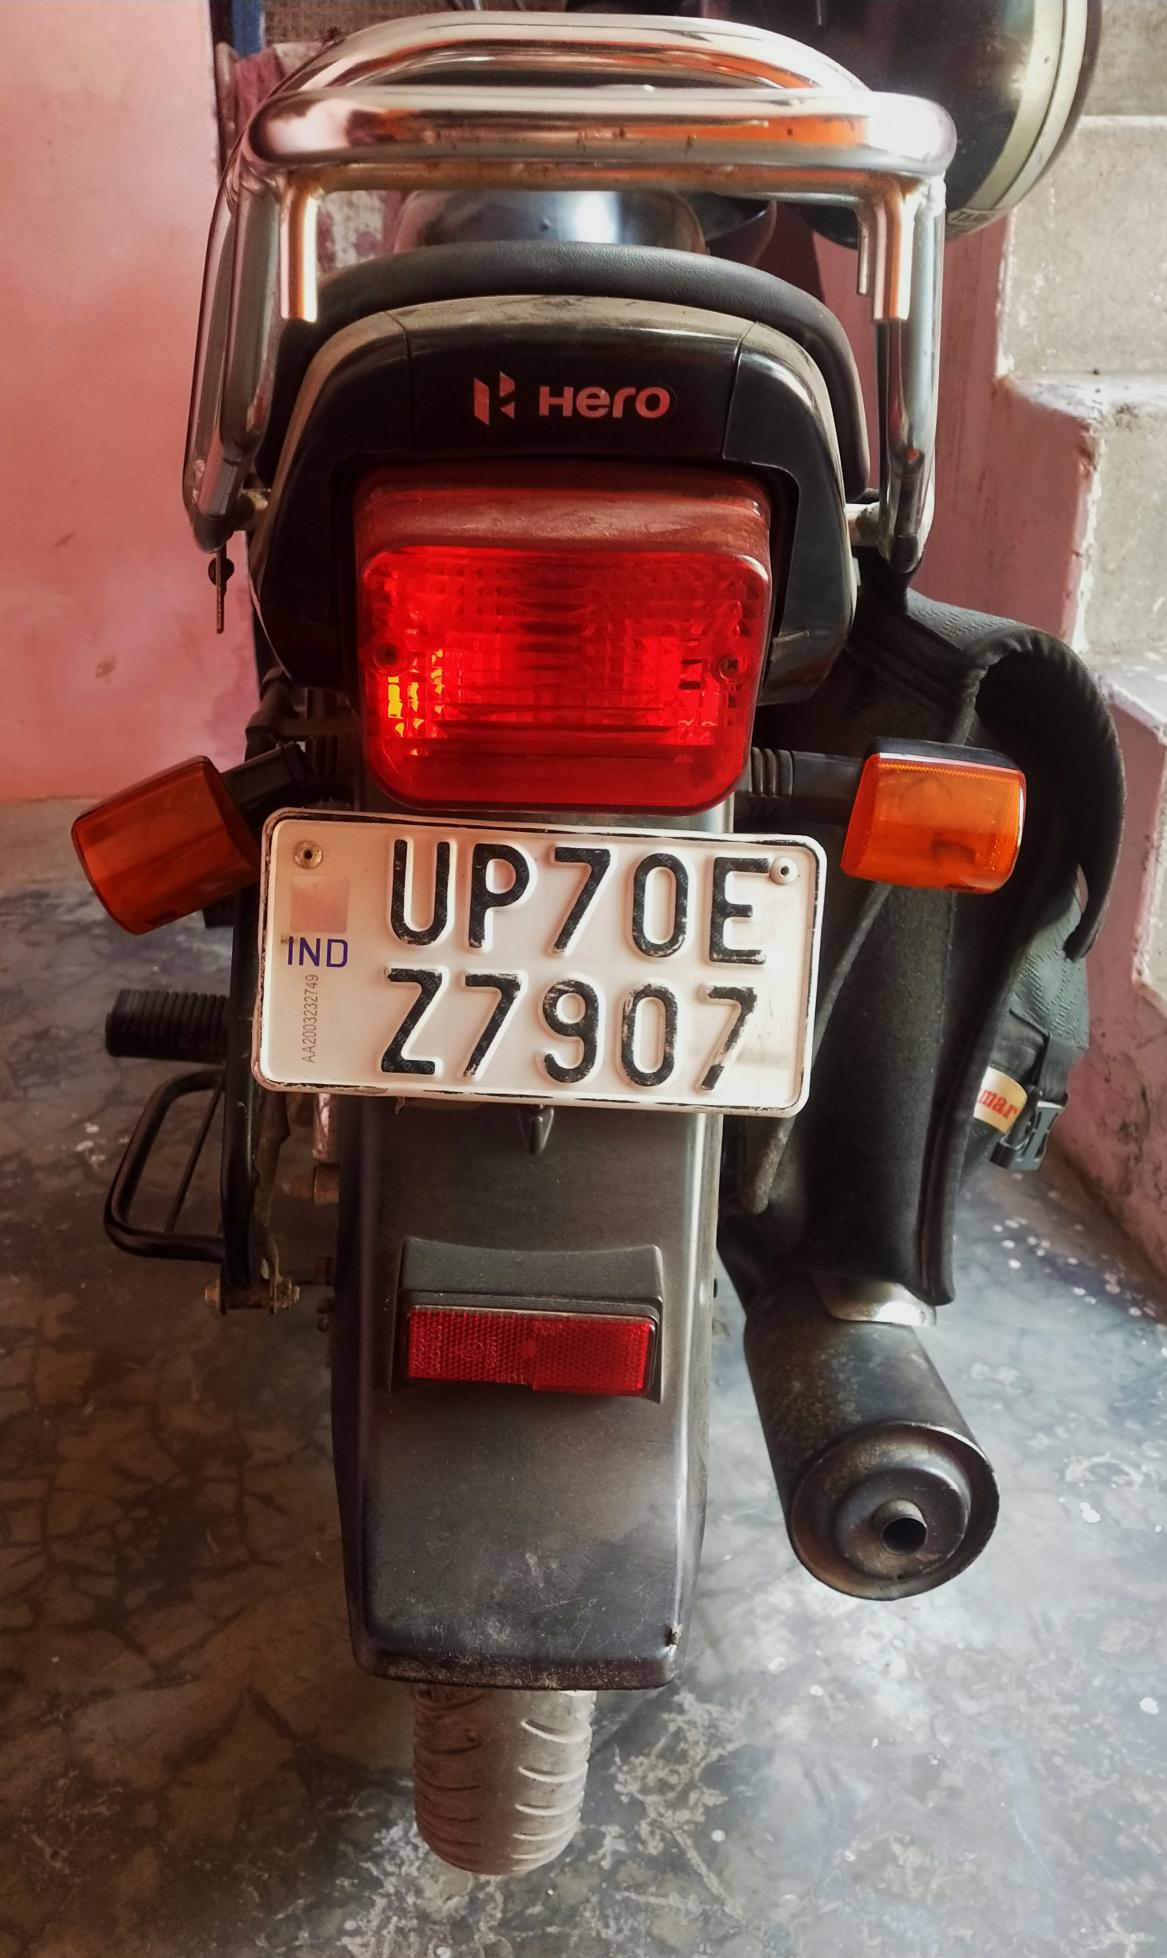license-plate: (256, 782, 832, 1144)
